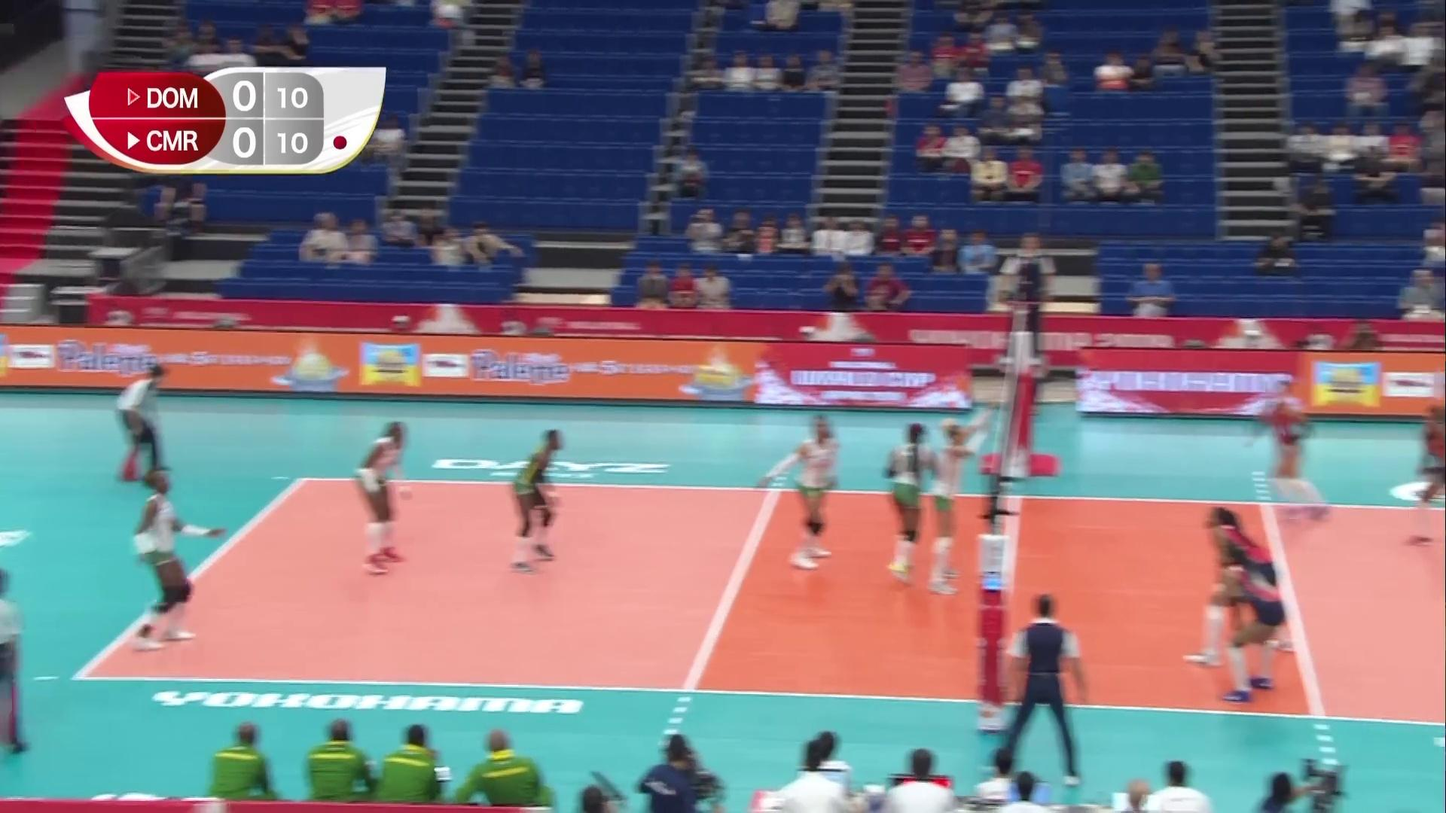player: (127, 476, 225, 652), (1192, 508, 1299, 664), (928, 403, 993, 598), (1214, 548, 1294, 706), (883, 422, 951, 581), (774, 427, 843, 570), (1261, 375, 1328, 520), (350, 424, 412, 570), (510, 430, 572, 568), (1416, 396, 1446, 547)
refree: (1001, 585, 1081, 782), (113, 361, 174, 481), (1006, 226, 1055, 364), (0, 566, 26, 755)
